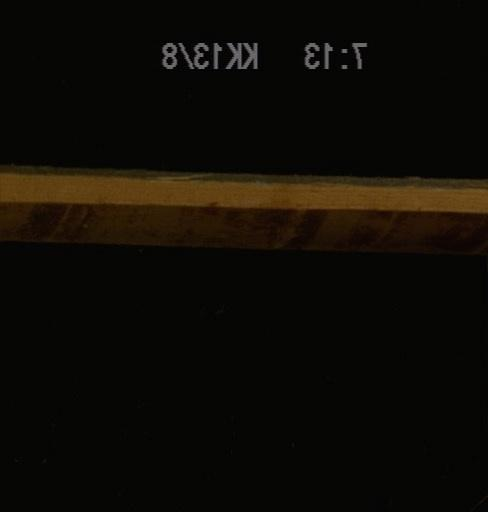wave: (0, 193, 486, 236)
